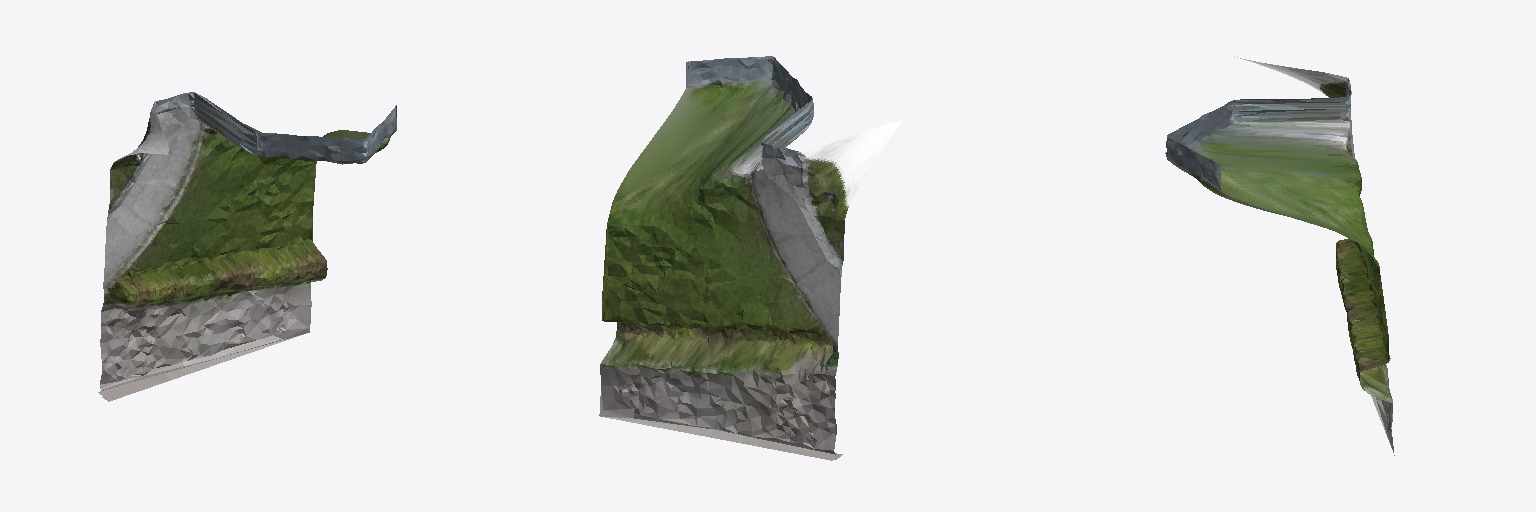
3 renders of one model, left to right at view 1: azimuth 30°, elevation 25°; view 2: azimuth 150°, elevation 25°; view 3: azimuth 270°, elevation 25°, orthographic.
Visible parts, largest first — view 1: grp1; view 2: grp1; view 3: grp1.
Boxes of the visible parts, <box> form: grp1: <box>98,92,396,401</box>; grp1: <box>599,56,902,460</box>; grp1: <box>1165,56,1394,455</box>.
Size of the model in its own units: 8 by 10 by 7.14.
Materials: 1 (1 with a texture image).